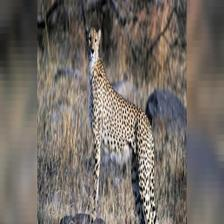Cheetah: (83, 25, 157, 223)
